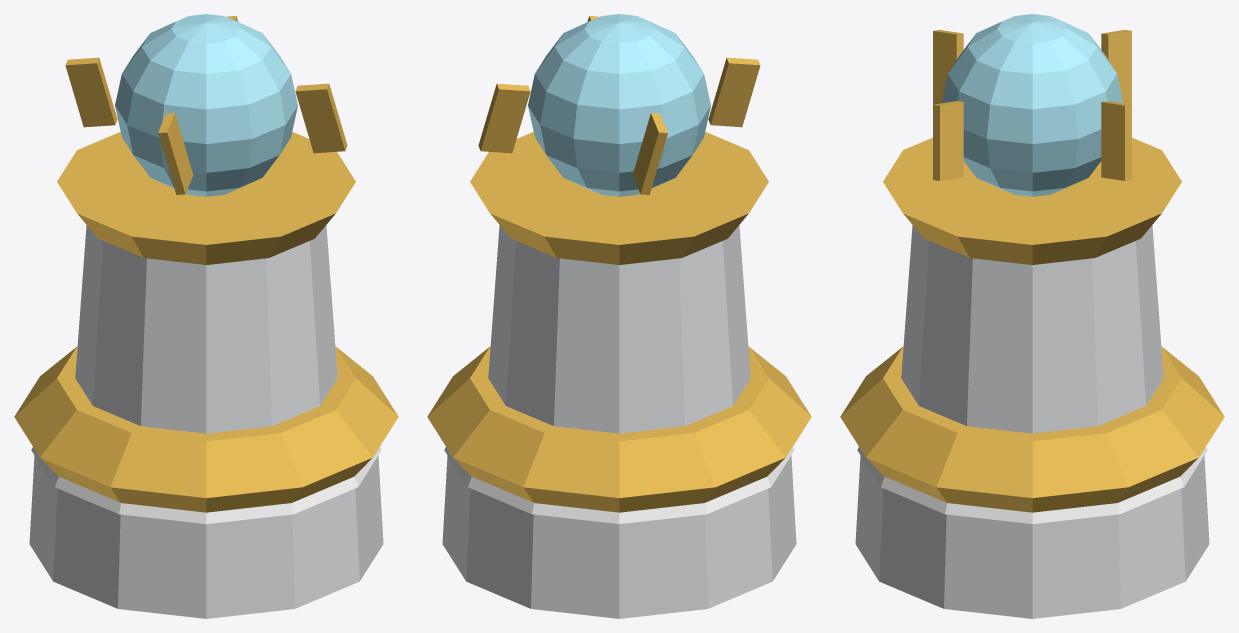
Rendered from tower_tesla_l1.glb.
The picture shows the model from 3 angles, left to right: view 1: azimuth 30°, elevation 25°; view 2: azimuth 150°, elevation 25°; view 3: azimuth 270°, elevation 25°; orthographic projection.
Visible parts, largest first — view 1: tower_tesla_l1; view 2: tower_tesla_l1; view 3: tower_tesla_l1.
Part boxes in pixels (box(x1,y1,x2,y2)): tower_tesla_l1: box(14, 14, 398, 618); tower_tesla_l1: box(427, 14, 811, 618); tower_tesla_l1: box(840, 14, 1224, 618).
Bounding box in the file's own units: 0.63 × 0.943 × 0.63.
